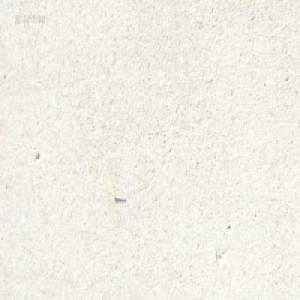Nail: (112, 193, 127, 203)
